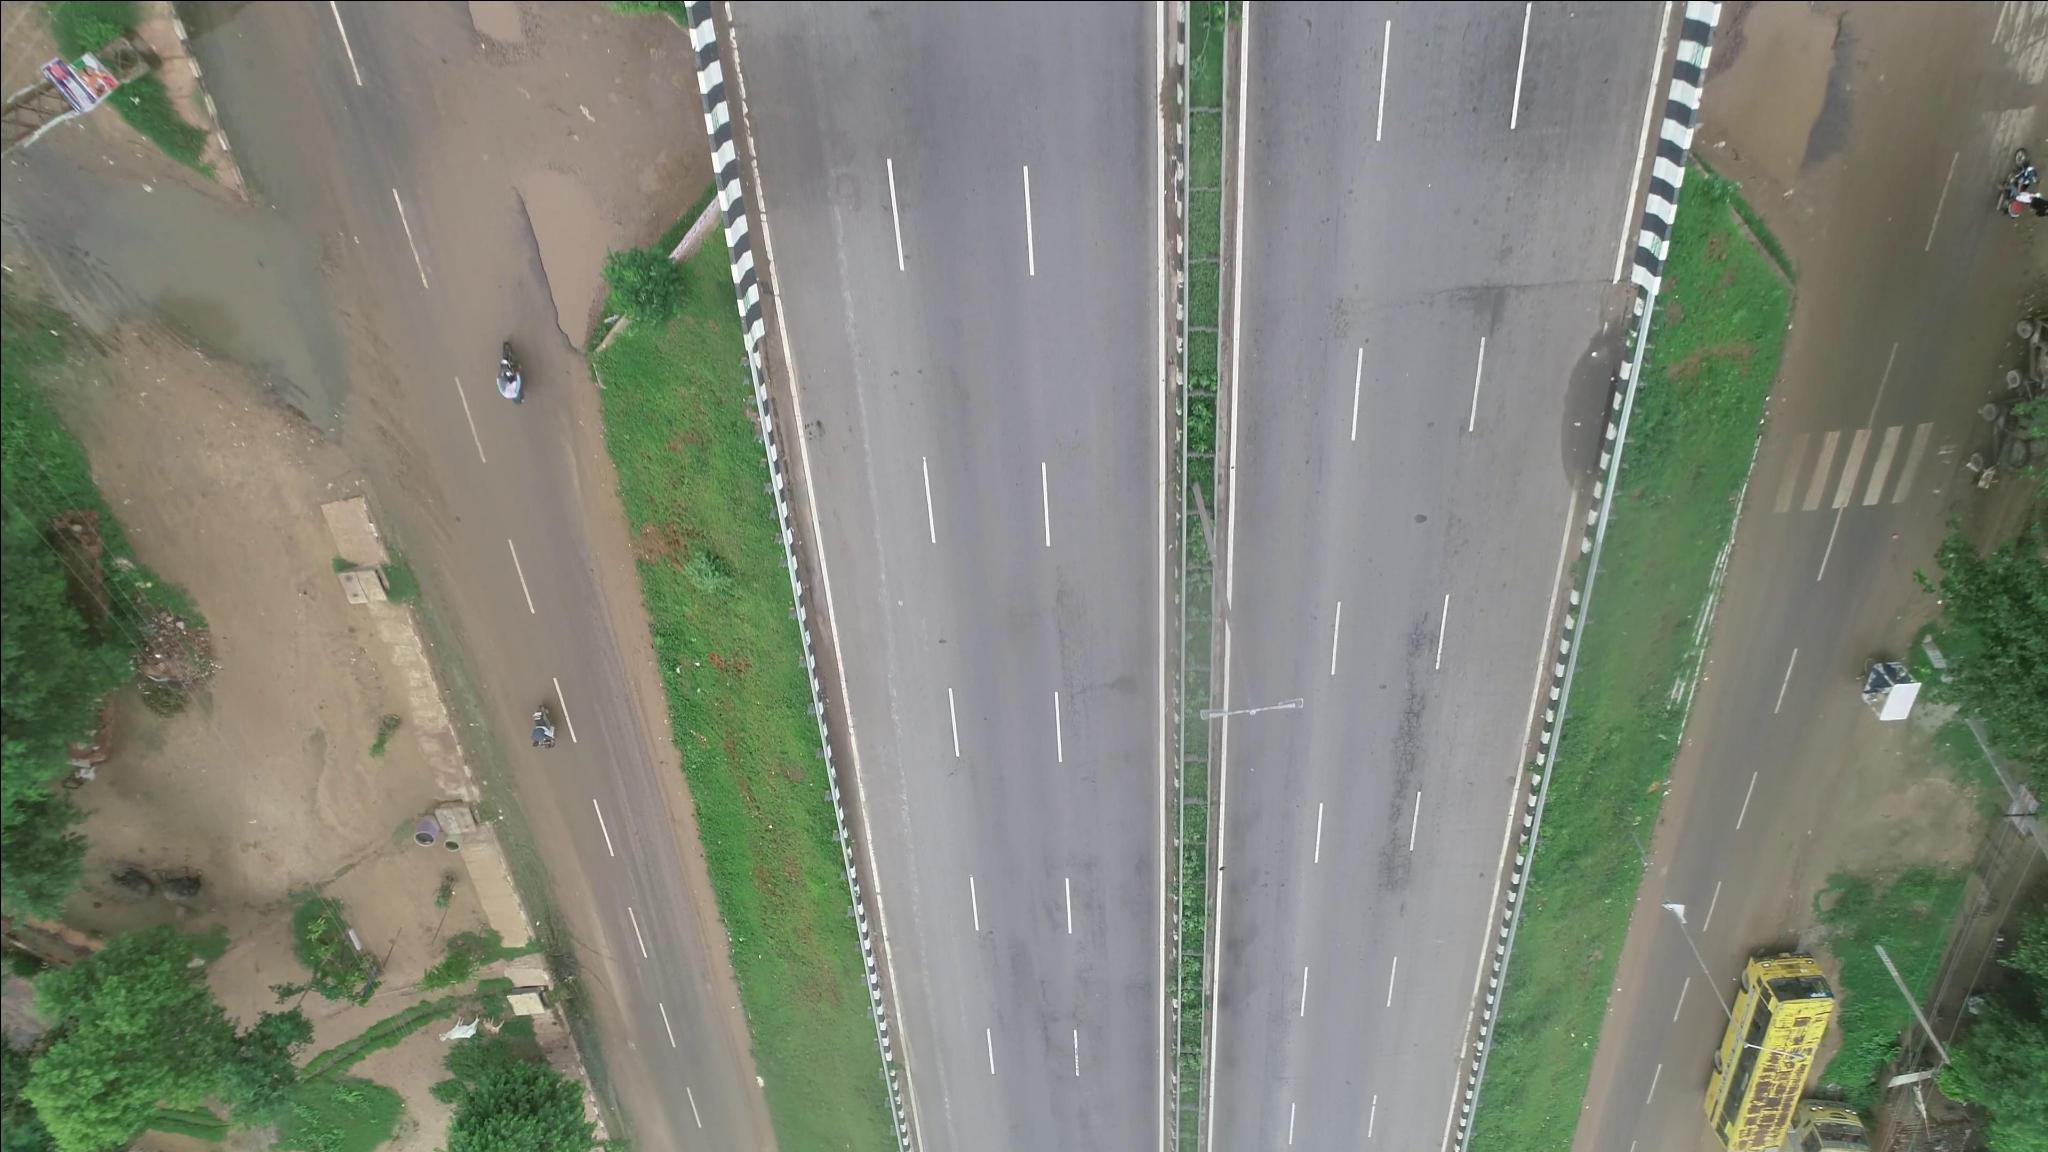Cracks: (1369, 620, 1438, 882)
